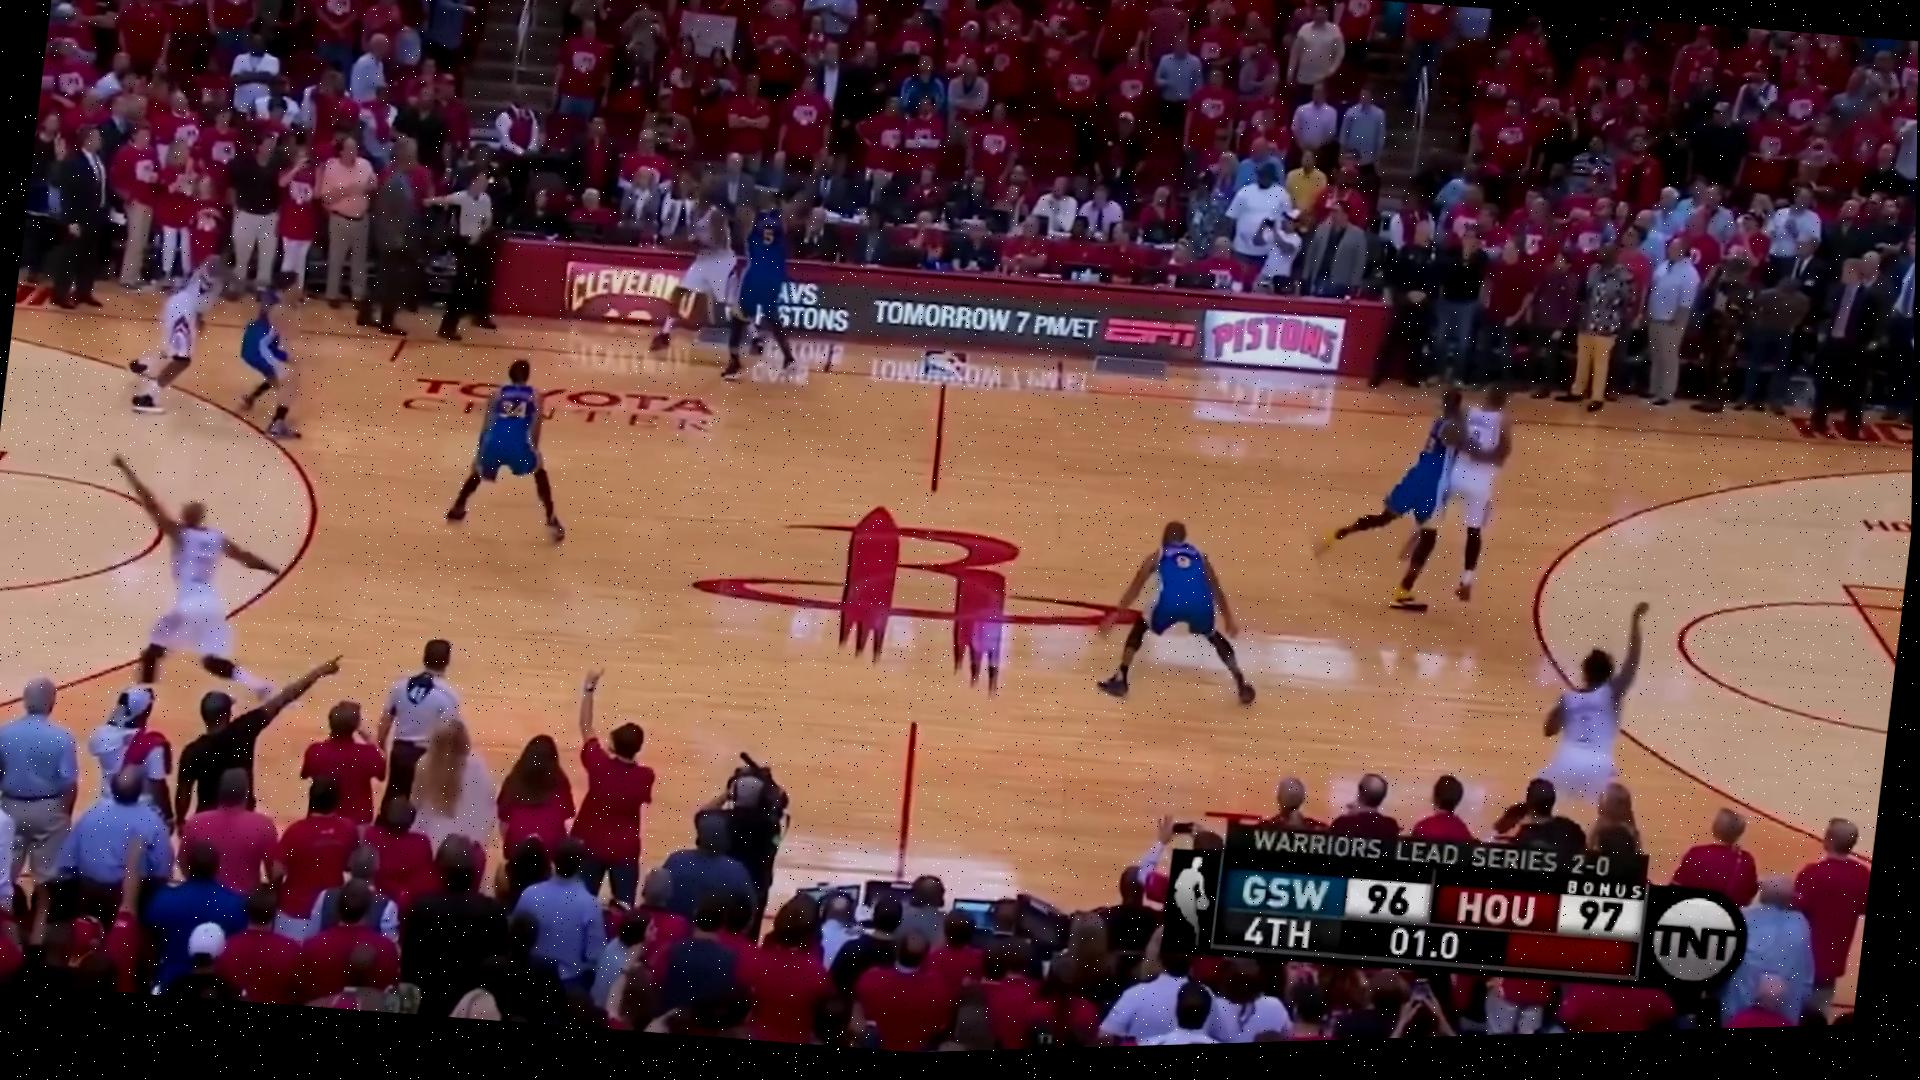foul: (1348, 338, 1527, 636)
